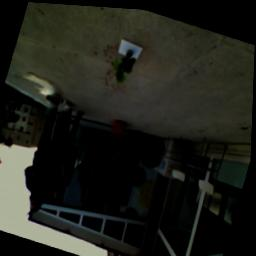herb: (108, 47, 140, 86)
